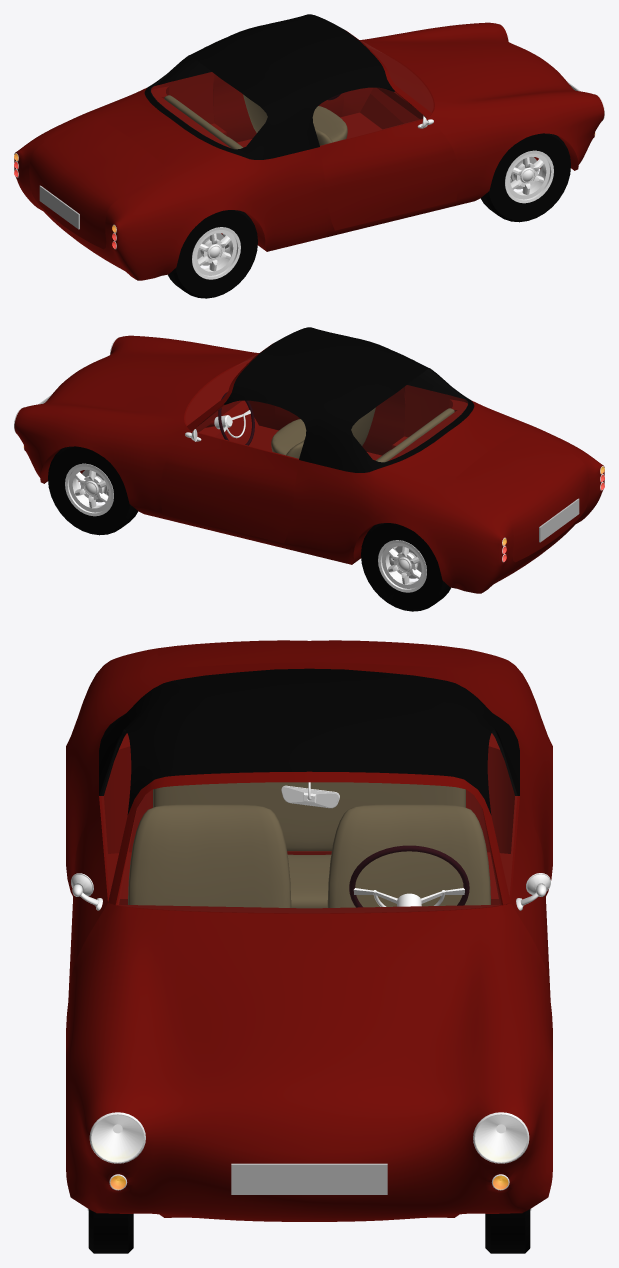
The model's file is vehicle_example.gltf.
3 renders of one model, top to bottom at view 1: azimuth 30°, elevation 25°; view 2: azimuth 150°, elevation 25°; view 3: azimuth 270°, elevation 25°, orthographic. The views are drawn at different scales.
Visible parts, largest first — view 1: Body, Roof, Door_FR, Trunk_Lid, Tire_FR, Tire_BR, Door_FL, Rim_FR, Rim_BR, FrontSeat_Seating_L, License_Plate_R, RearSeat_Backrest (+1 smaller); view 2: Body, Roof, Door_FL, Trunk_Lid, Tire_FL, Tire_BL, Door_FR, Rim_FL, Rim_BL, FrontSeat_Seating_R, License_Plate_R, RearSeat_Backrest (+1 smaller); view 3: Body, Roof, FrontSeat_Backrest_R, FrontSeat_Backrest_L, RearSeat_Backrest, Trunk_Lid, License_Plate_F, Door_FL, Door_FR, Light_Low_Beam_Reflector_FL, Light_Low_Beam_Reflector_FR, RearSeat_Seating (+7 smaller).
Boxes of the visible parts, x1=… form: Body: x1=14, y1=22, x2=604, y2=280; Roof: x1=144, y1=14, x2=394, y2=159; Door_FR: x1=320, y1=118, x2=458, y2=230; Trunk_Lid: x1=29, y1=118, x2=166, y2=249; Tire_FR: x1=480, y1=133, x2=570, y2=222; Tire_BR: x1=168, y1=210, x2=257, y2=298; Door_FL: x1=213, y1=75, x2=343, y2=142; Rim_FR: x1=505, y1=150, x2=553, y2=203; Rim_BR: x1=192, y1=227, x2=240, y2=279; FrontSeat_Seating_L: x1=312, y1=106, x2=347, y2=142; License_Plate_R: x1=39, y1=185, x2=79, y2=229; RearSeat_Backrest: x1=164, y1=95, x2=242, y2=149; Body: x1=14, y1=335, x2=604, y2=593; Roof: x1=224, y1=327, x2=474, y2=472; Door_FL: x1=160, y1=431, x2=298, y2=543; Trunk_Lid: x1=452, y1=431, x2=589, y2=562; Tire_FL: x1=48, y1=446, x2=138, y2=535; Tire_BL: x1=361, y1=523, x2=450, y2=611; Door_FR: x1=275, y1=388, x2=405, y2=455; Rim_FL: x1=65, y1=463, x2=113, y2=516; Rim_BL: x1=378, y1=540, x2=426, y2=592; FrontSeat_Seating_R: x1=271, y1=419, x2=306, y2=455; License_Plate_R: x1=539, y1=498, x2=579, y2=542; RearSeat_Backrest: x1=376, y1=408, x2=454, y2=462; Body: x1=66, y1=648, x2=552, y2=1221; Roof: x1=99, y1=668, x2=519, y2=814; FrontSeat_Backrest_R: x1=128, y1=804, x2=291, y2=907; FrontSeat_Backrest_L: x1=327, y1=804, x2=490, y2=907; RearSeat_Backrest: x1=153, y1=782, x2=465, y2=851; Trunk_Lid: x1=157, y1=640, x2=461, y2=667; License_Plate_F: x1=231, y1=1163, x2=387, y2=1194; Door_FL: x1=508, y1=796, x2=550, y2=998; Door_FR: x1=68, y1=796, x2=110, y2=998; Light_Low_Beam_Reflector_FL: x1=473, y1=1112, x2=529, y2=1163; Light_Low_Beam_Reflector_FR: x1=89, y1=1112, x2=145, y2=1163; RearSeat_Seating: x1=287, y1=854, x2=331, y2=908.
Size of the model in its own units: 3.85 by 1.3 by 1.62.
